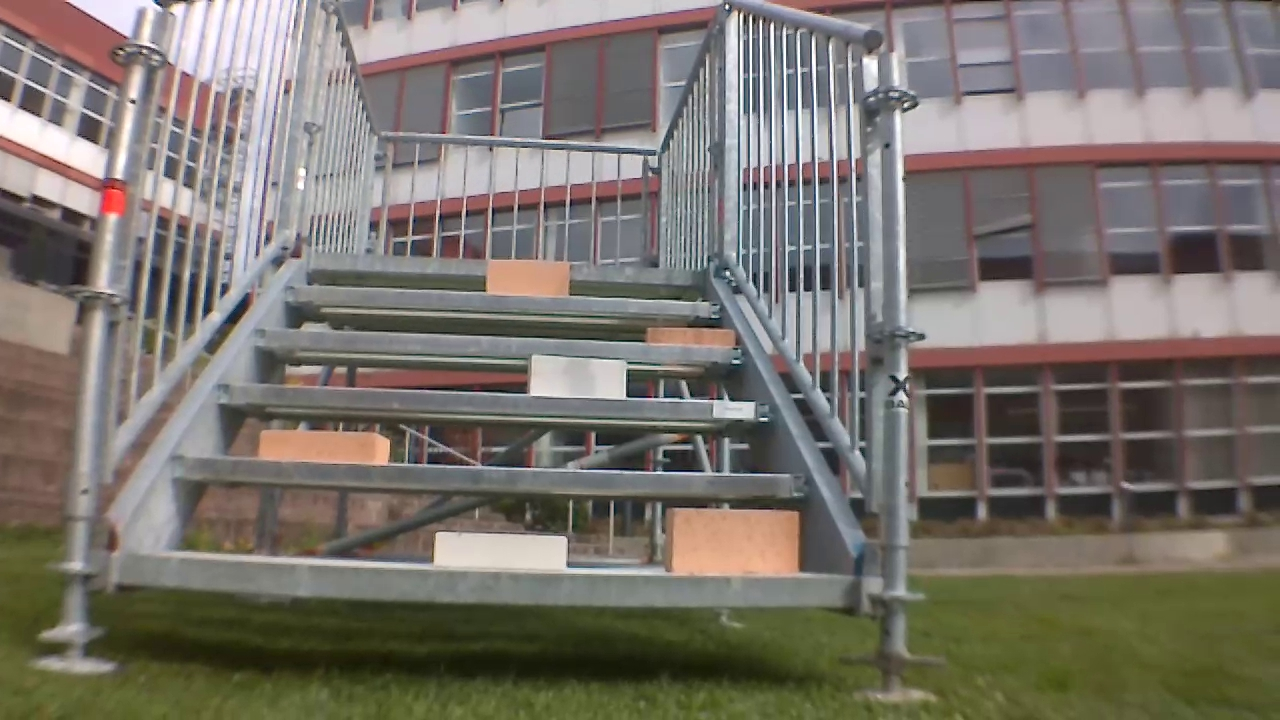brick: (669, 504, 805, 570), (431, 528, 573, 565), (527, 354, 629, 397), (252, 431, 398, 461), (485, 257, 575, 292), (645, 325, 739, 346)
edge: (114, 555, 860, 595), (176, 451, 805, 497), (222, 382, 770, 425), (254, 324, 748, 362), (281, 282, 725, 317), (312, 249, 702, 284)
stairs: (66, 2, 896, 638)
steps: (81, 266, 871, 591)
